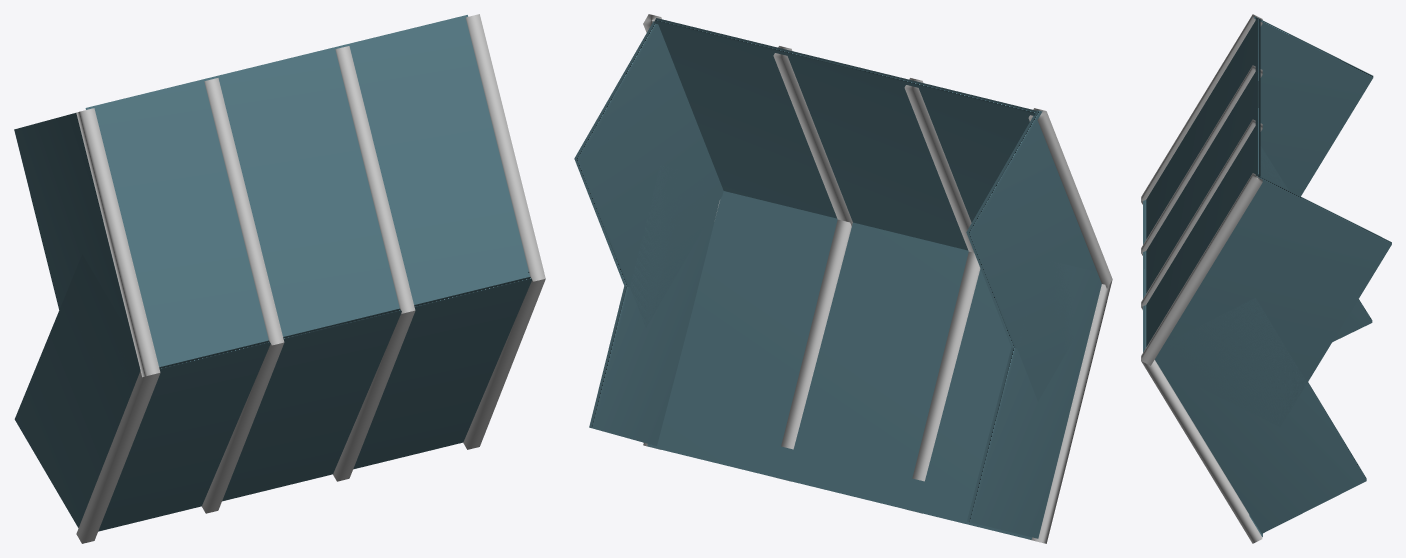
The model's file is window.fbx.
The picture shows the model from 3 angles, left to right: view 1: azimuth 30°, elevation 25°; view 2: azimuth 150°, elevation 25°; view 3: azimuth 270°, elevation 25°; orthographic projection. The views are drawn at different scales.
Parts seen in each view (by area): view 1: PM3D_Cube3D1_164; view 2: PM3D_Cube3D1_164; view 3: PM3D_Cube3D1_164.
Boxes of the visible parts, x1,y1,x2,y2 form: PM3D_Cube3D1_164: (14,14,545,543); PM3D_Cube3D1_164: (574,14,1112,543); PM3D_Cube3D1_164: (1141,14,1391,543).
Size of the model in its own units: 243 by 252 by 157.
